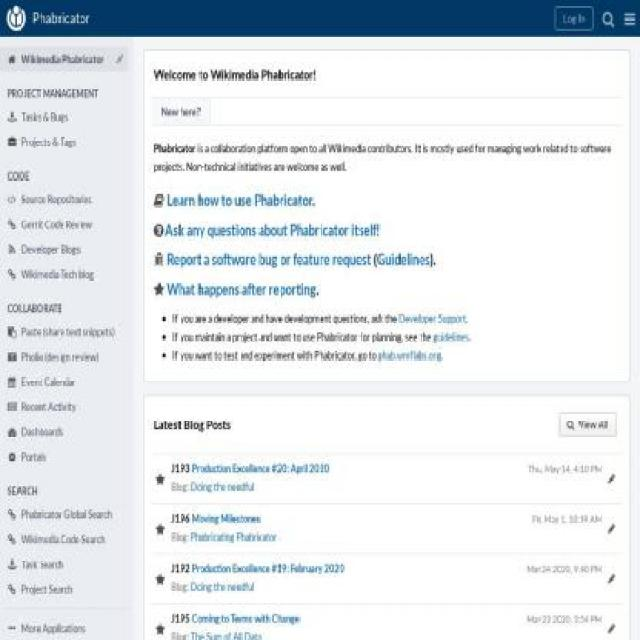button: (0, 0, 98, 38), (0, 46, 129, 72), (0, 104, 129, 130), (0, 130, 129, 156), (0, 186, 129, 212), (0, 211, 129, 237), (0, 237, 129, 263), (0, 262, 129, 288), (0, 318, 129, 344), (0, 344, 129, 370), (0, 370, 129, 396), (0, 394, 129, 420), (0, 418, 129, 444), (0, 444, 129, 470), (0, 502, 129, 528), (0, 526, 129, 552), (0, 551, 129, 577), (0, 577, 129, 603), (0, 616, 129, 639), (152, 98, 210, 125), (558, 412, 617, 437), (555, 7, 593, 30), (618, 0, 638, 38)
